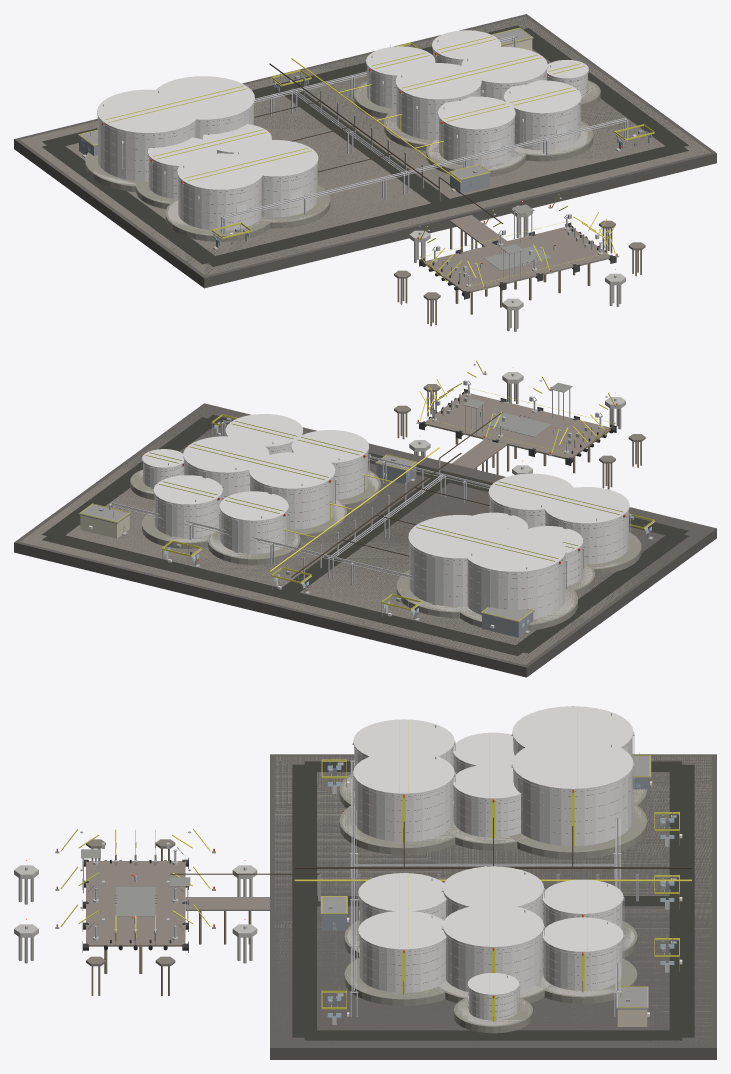
Rendered from Terminal_08_SPC_Sebarok.glb.
3 renders of one model, top to bottom at view 1: azimuth 30°, elevation 25°; view 2: azimuth 150°, elevation 25°; view 3: azimuth 270°, elevation 25°, orthographic. The views are drawn at different scales.
Parts seen in each view (by area): view 1: Island_Surface, Island_Base, J1_thead, Road_Ring_S, T5_roof, T6_roof, T2_shell, T6_shell, T7_shell, T9_roof, T1_roof, Road_Ring_W (+33 smaller); view 2: Island_Base, Island_Surface, Road_Ring_N, J1_thead, T6_shell, T5_roof, T6_roof, T5_shell, T9_roof, T1_roof, Road_Ring_W, T10_roof (+32 smaller); view 3: Island_Base, Island_Surface, J1_thead, Road_Ring_S, Road_Ring_N, T5_shell, T5_roof, T1_shell, Road_Ring_E, T6_roof, T8_shell, T1_roof (+28 smaller).
Part boxes in pixels (x1,y1,x2,y2): Island_Surface: (20, 16, 710, 275); Island_Base: (14, 14, 716, 288); J1_thead: (424, 226, 610, 292); Road_Ring_S: (203, 143, 688, 266); T5_roof: (152, 76, 254, 120); T6_roof: (97, 89, 199, 134); T2_shell: (178, 177, 261, 230); T6_shell: (98, 117, 195, 181); T7_shell: (438, 118, 514, 166); T9_roof: (395, 63, 481, 100); T1_roof: (232, 140, 318, 177); Road_Ring_W: (42, 142, 220, 264); Island_Base: (14, 403, 716, 677); Island_Surface: (20, 408, 667, 664); Road_Ring_N: (42, 535, 526, 655); J1_thead: (425, 392, 610, 458); T6_shell: (467, 556, 565, 618); T5_roof: (408, 515, 510, 559); T6_roof: (467, 528, 566, 572); T5_shell: (409, 543, 467, 606); T9_roof: (249, 452, 335, 489); T1_roof: (488, 473, 574, 510); Road_Ring_W: (510, 534, 688, 653); T10_roof: (183, 436, 269, 473); Island_Base: (270, 754, 716, 1059); Island_Surface: (274, 756, 711, 1045); J1_thead: (86, 861, 185, 946); Road_Ring_S: (292, 764, 316, 1037); Road_Ring_N: (669, 764, 694, 1037); T5_shell: (513, 769, 632, 845); T5_roof: (512, 737, 633, 790); T1_shell: (354, 779, 453, 841); Road_Ring_E: (304, 1030, 682, 1040); T6_roof: (512, 706, 633, 749); T8_shell: (359, 936, 445, 992); T1_roof: (353, 751, 454, 794).
Size of what is drawn, in the model's own units: 140 by 23.53 by 142.
